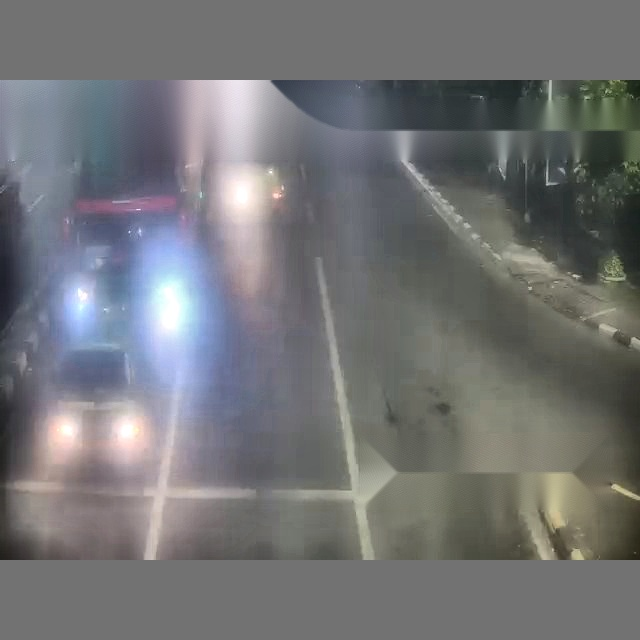Truk: (311, 76, 639, 557)
